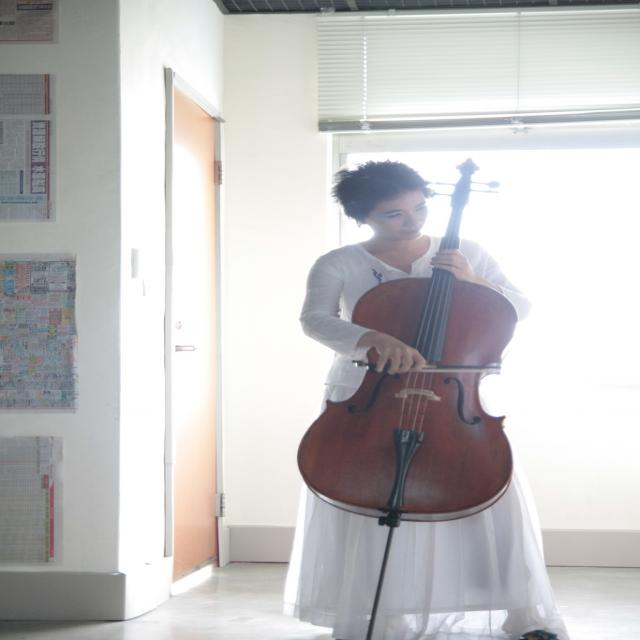cello: (295, 158, 526, 524)
